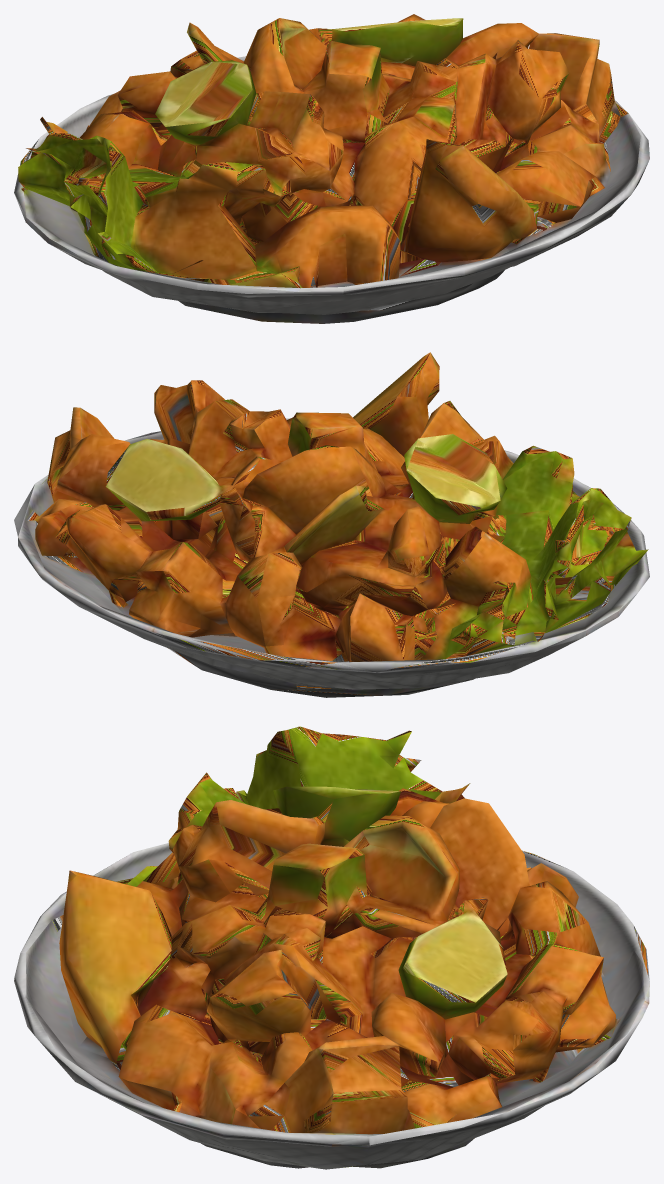
File: torresmo.glb
3 renders of one model, top to bottom at view 1: azimuth 30°, elevation 25°; view 2: azimuth 150°, elevation 25°; view 3: azimuth 270°, elevation 25°, orthographic. The views are drawn at different scales.
Visible parts, largest first — view 1: Porção de torresmo; view 2: Porção de torresmo; view 3: Porção de torresmo.
Boxes of the visible parts, x1=… form: Porção de torresmo: x1=14, y1=14, x2=649, y2=323; Porção de torresmo: x1=14, y1=352, x2=649, y2=697; Porção de torresmo: x1=14, y1=726, x2=649, y2=1169.
Size of the model in its own units: 0.23 by 0.0805 by 0.1921.
Materials: 1 (1 with a texture image).
